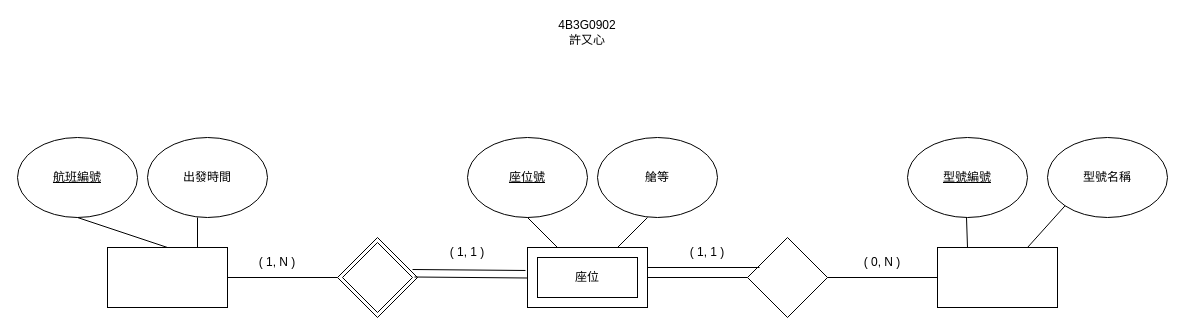
Some shapes in this 1185 by 335 pixel diagram are drawn without their labels. Here are the shapes that lost their labels. From the top down, the centre of each, then its label:
pixel 167 277: 航班
pixel 377 277: 屬於
pixel 787 277: 使用
pixel 997 277: 座椅型號
